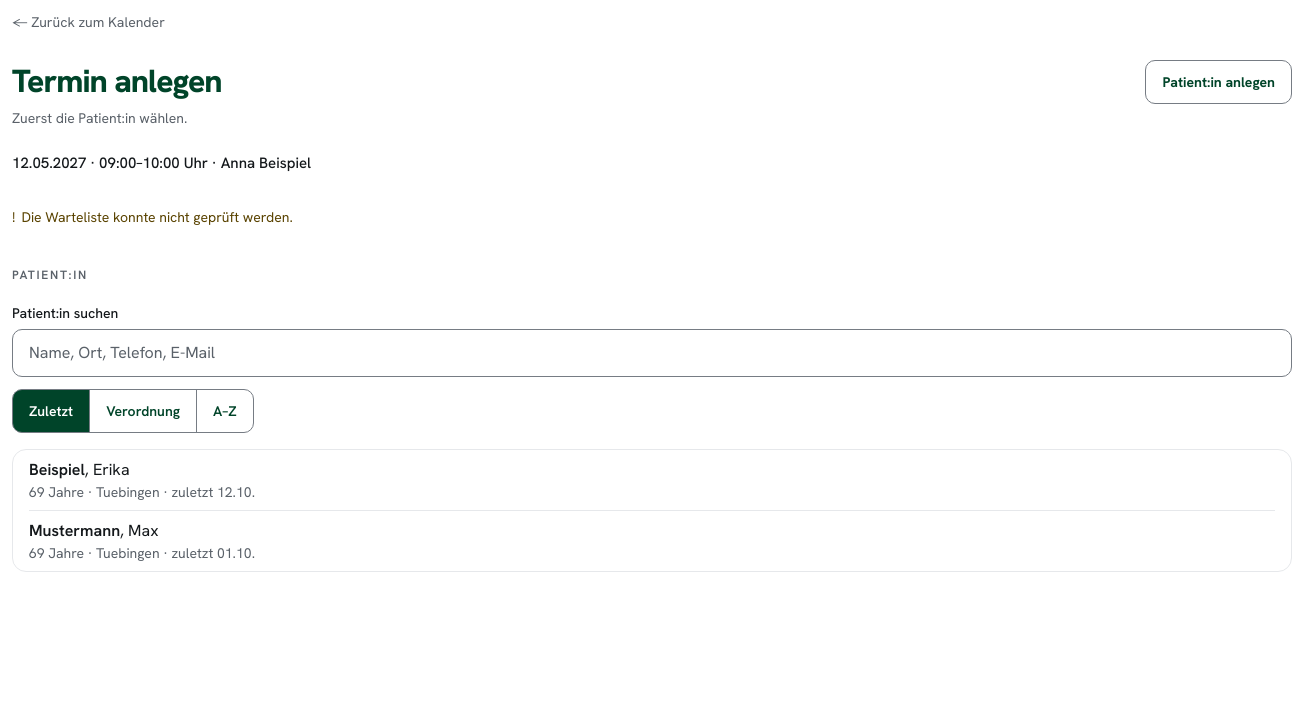
Test: NewAppointmentStartPage › zeigt eine Liste statt der Suche ab drei Zeichen, zuletzt behandelt zuerst (B10)
Expected: the link "Mustermann, Max 69 Jahre · Tuebingen · zuletzt 01.10." is shown, [29,520,255,562]
Step 1. Click the button "A–Z" → [225, 410], box [196,388,254,432]
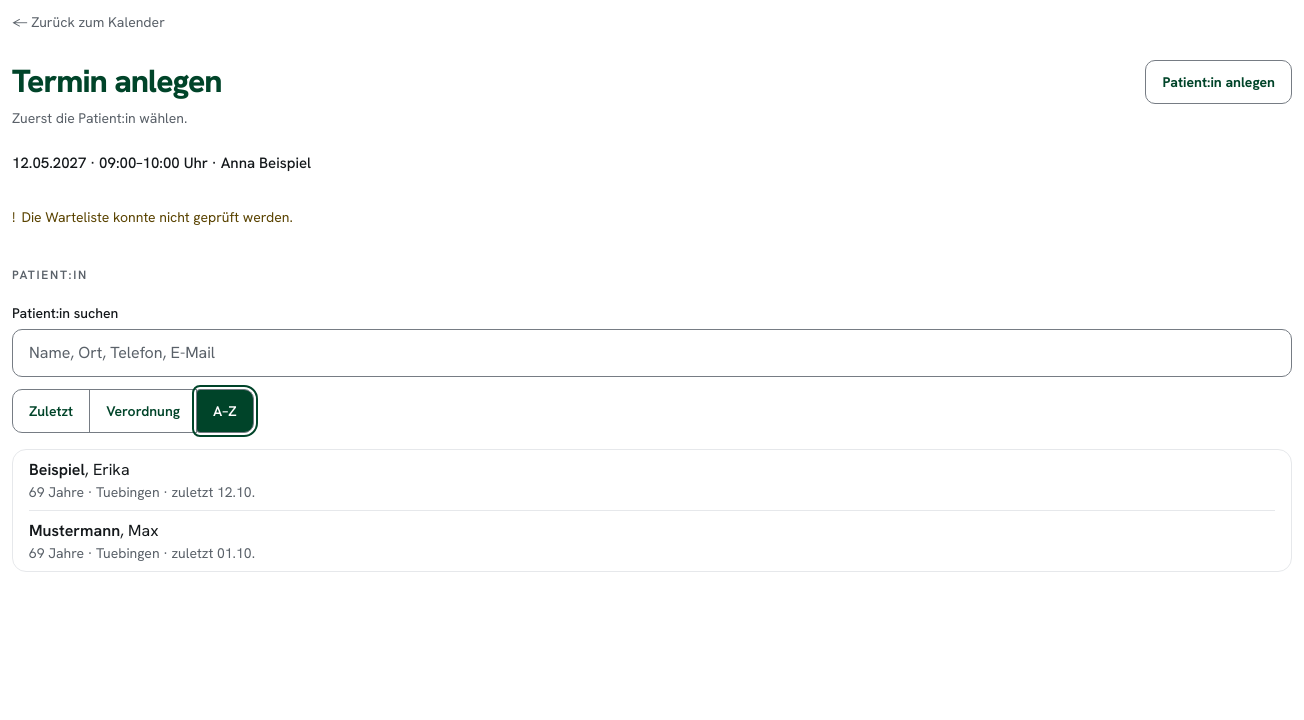
Step 2. Type "m" into the search field labelled "Patient:in suchen" → [652, 352], box [12,328,1292,376]
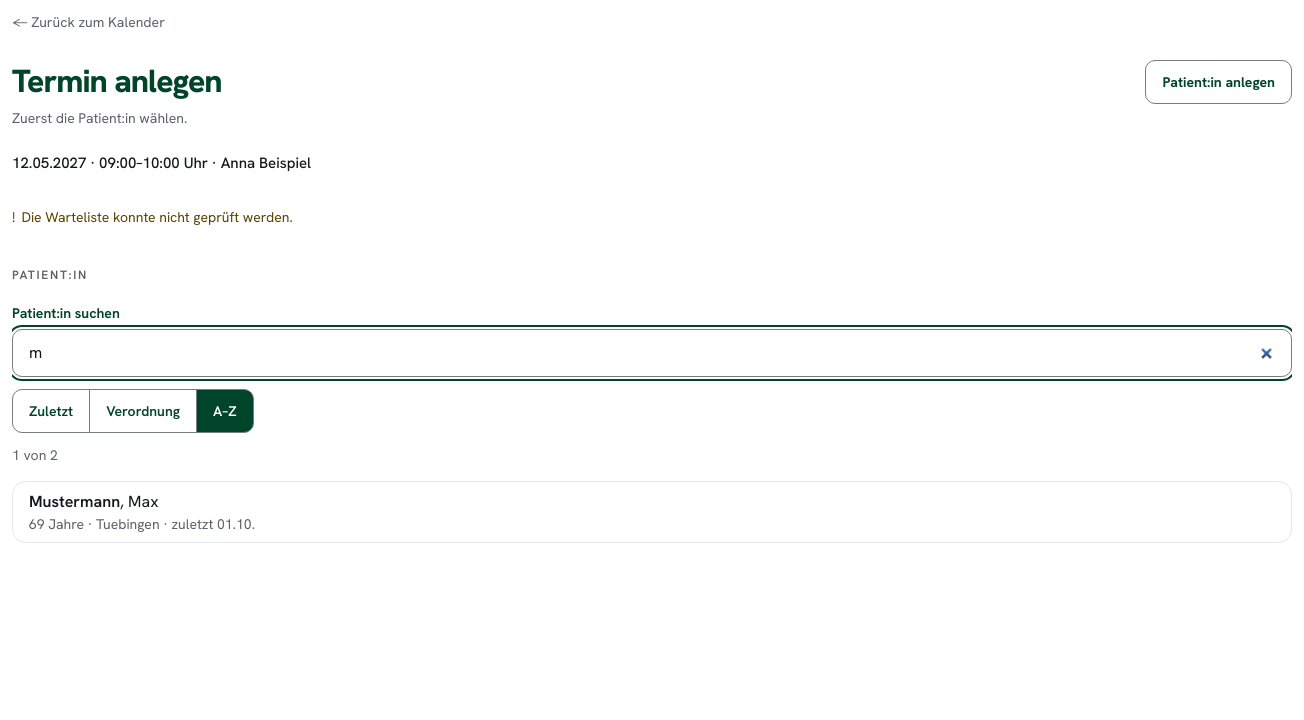
Expected: the link "Beispiel, Erika" is gone
